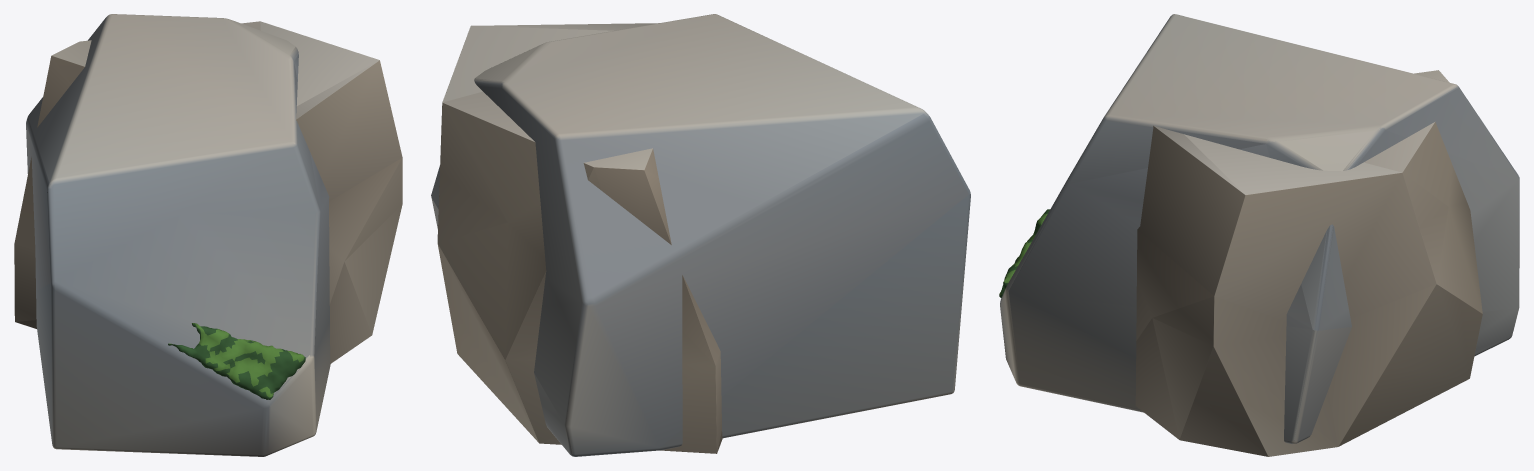
The model's file is shore_rock_c_lod1.glb.
3 renders of one model, left to right at view 1: azimuth 30°, elevation 25°; view 2: azimuth 150°, elevation 25°; view 3: azimuth 270°, elevation 25°, orthographic. The views are drawn at different scales.
Parts seen in each view (by area): view 1: shore_rock_c.001; view 2: shore_rock_c.001; view 3: shore_rock_c.001.
Boxes of the visible parts, x1,y1,x2,y2 form: shore_rock_c.001: (14,14,402,456); shore_rock_c.001: (431,14,970,456); shore_rock_c.001: (999,14,1519,456).
Size of the model in its own units: 4.78 by 3.32 by 5.09.
